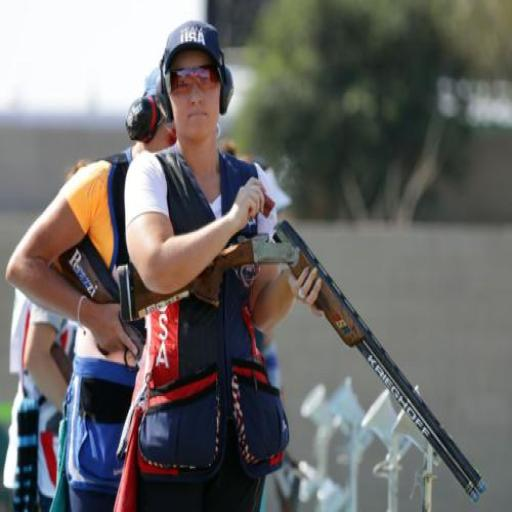shooting: (112, 18, 326, 510), (38, 69, 241, 507)
